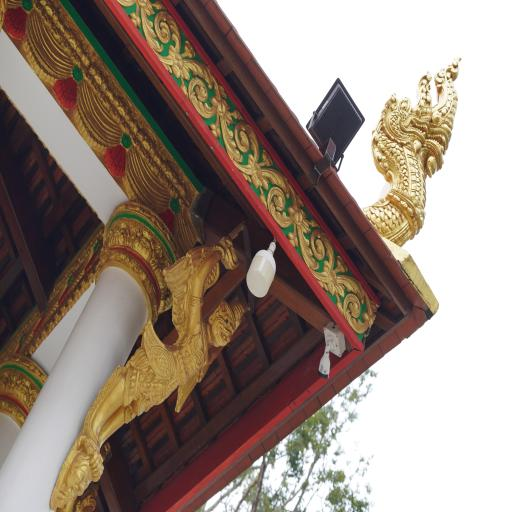ran: (358, 45, 477, 279)
than: (49, 202, 263, 512)
